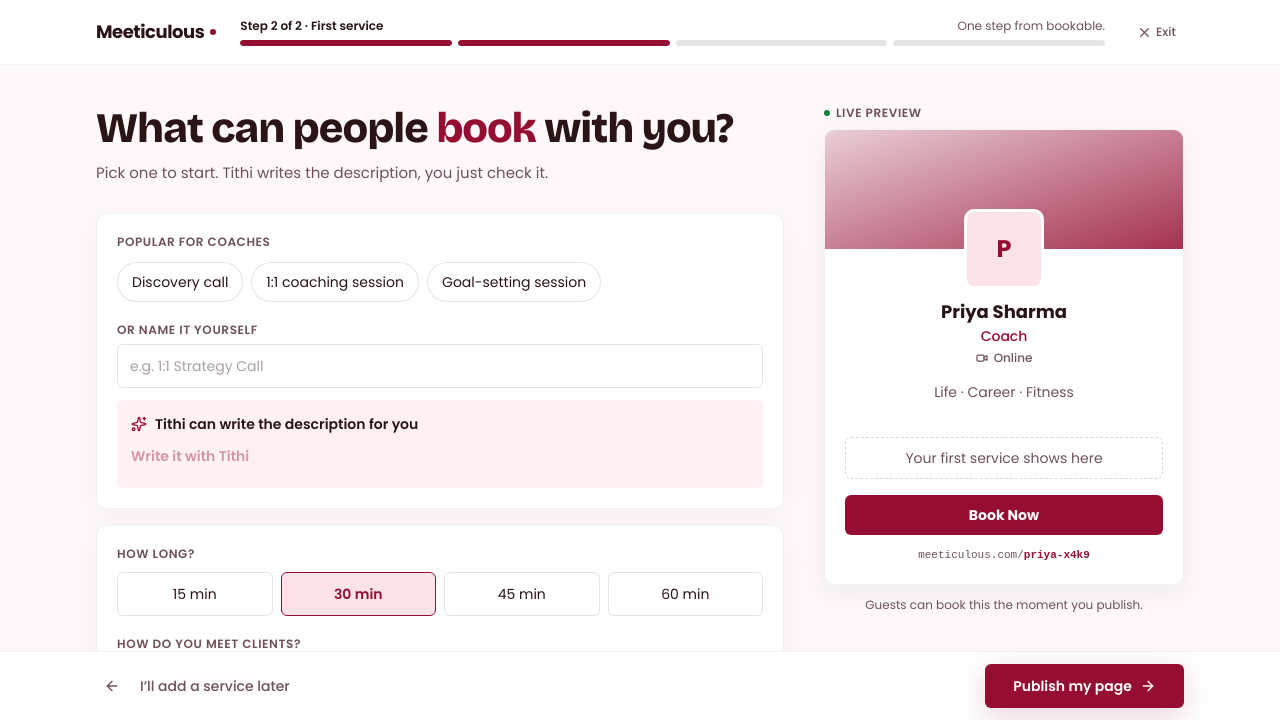
Scenario: ServiceStep — first service › skip saves details, tracks the skip, creates no service
Click the button "I’ll add a service later". click: [215, 686]
box: [132,664,298,708]
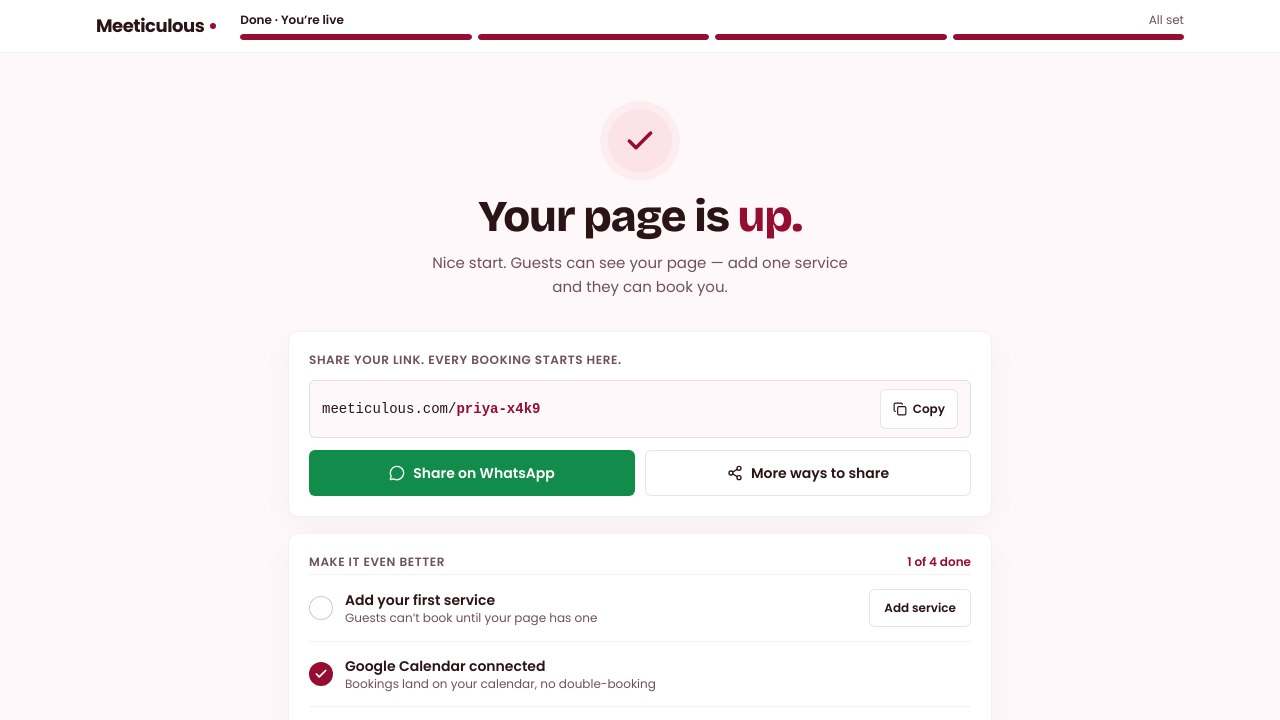
Expected: the heading "Your page is up." is shown, [478,190,802,243]
